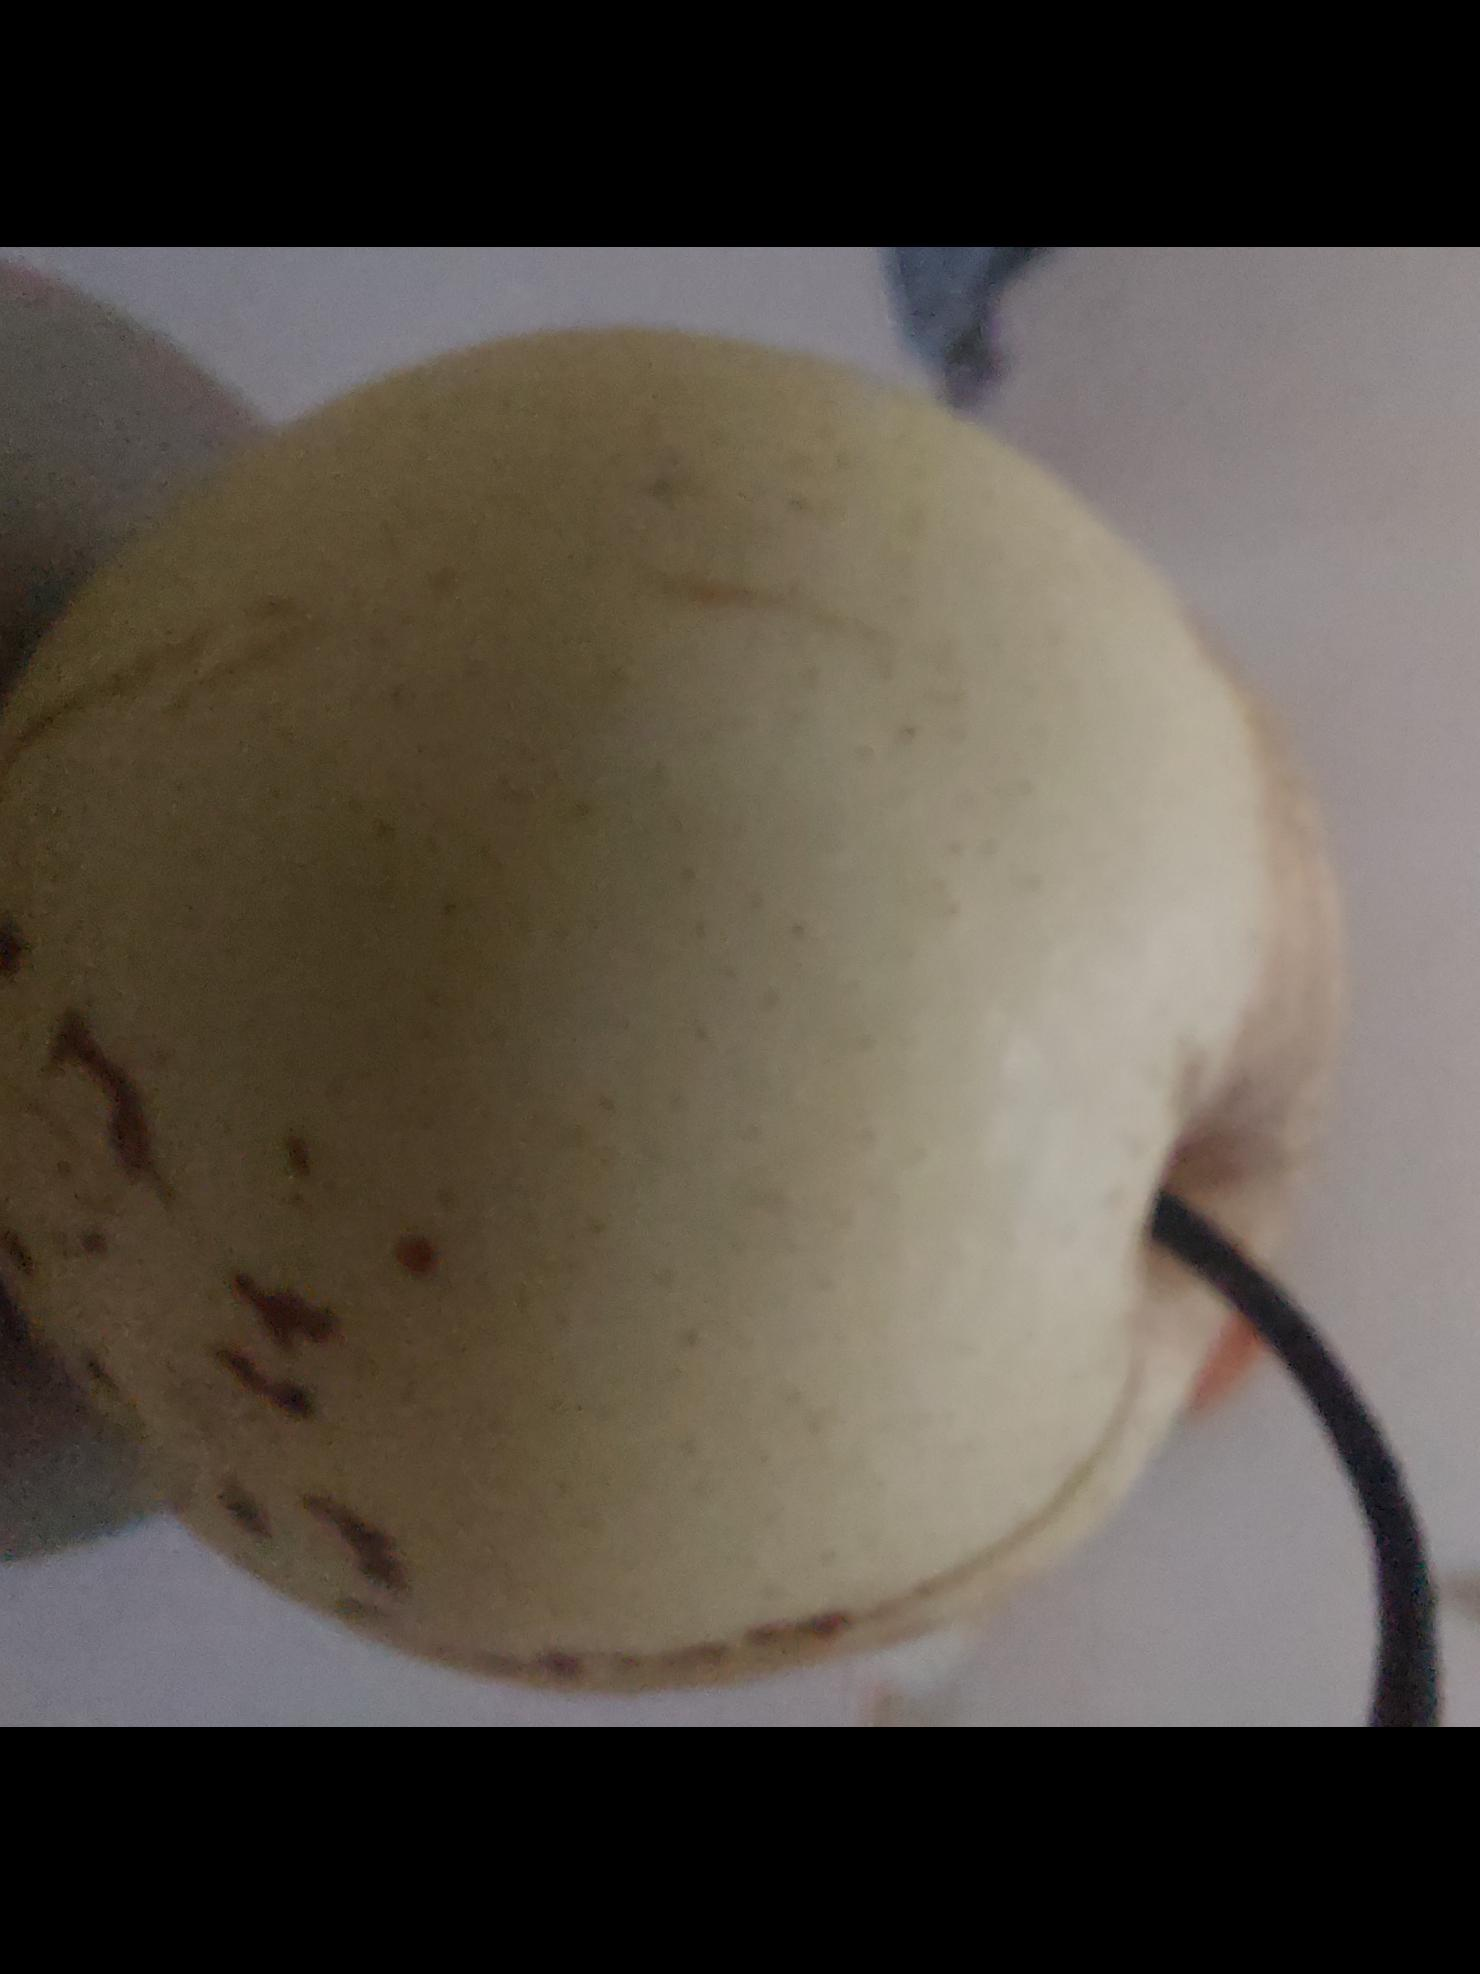Bad Pear: (0, 320, 1199, 1682)
